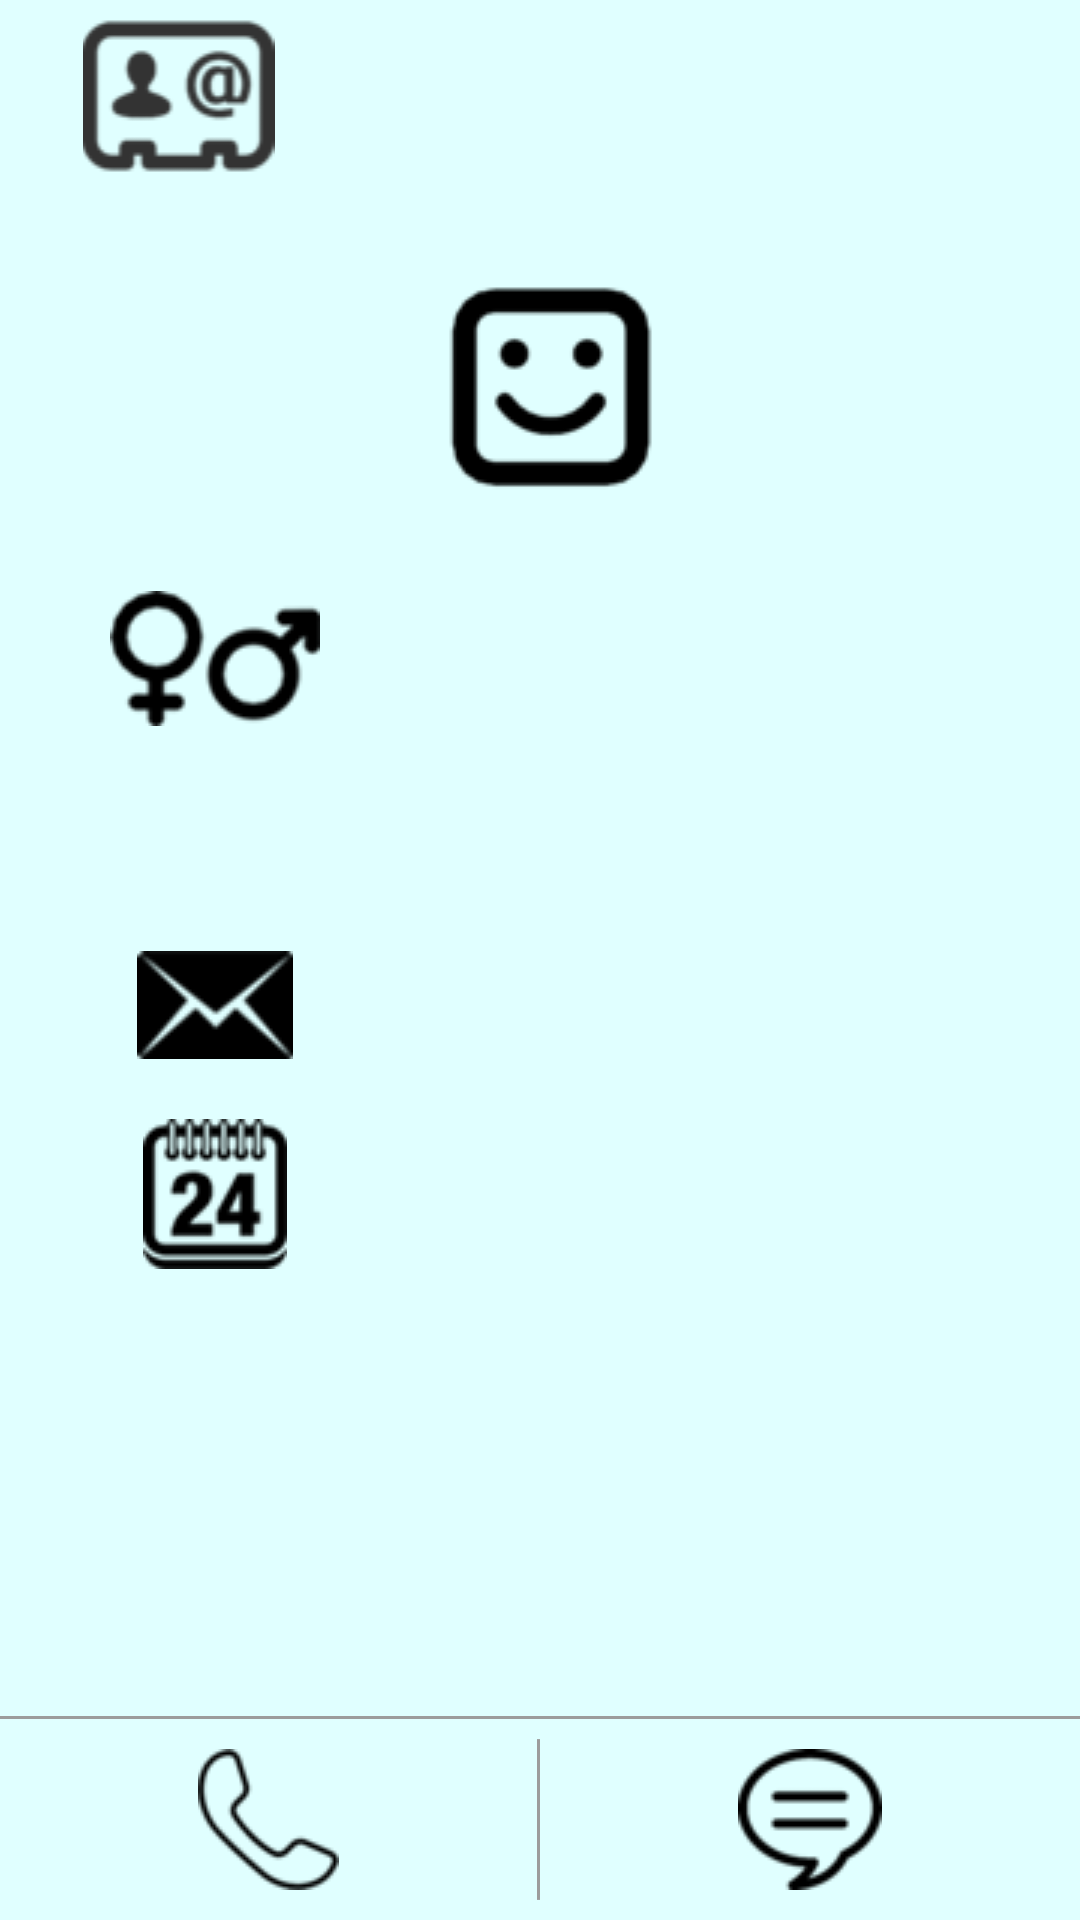

Named icons in this screenshot (1080x1920) and their centers, point (x, y):
addressbook: point (179, 96)
calendar: point (215, 1194)
call: point (268, 1819)
mail: point (215, 1005)
sex: point (215, 658)
